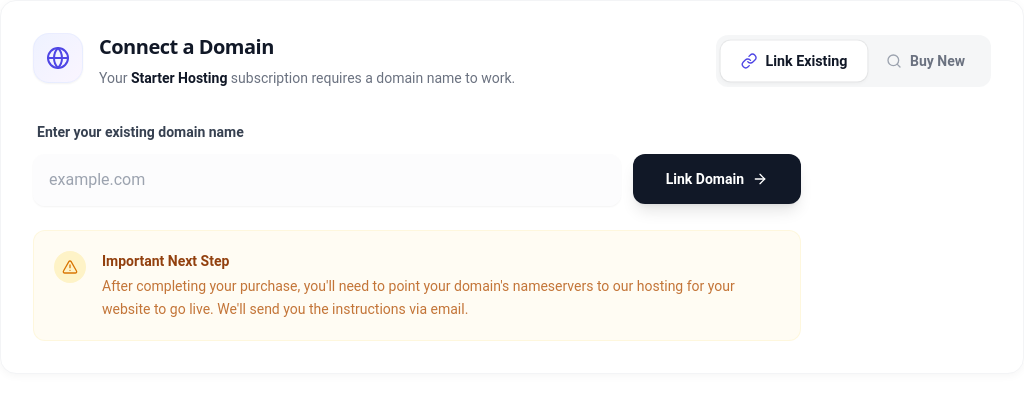
Scenario: <DomainSetup> › Link Existing tab › shows 'Required' when the input is empty and the user clicks Link Domain
Click the button "Link Domain" at x=717, y=179, box [633,154,801,204]
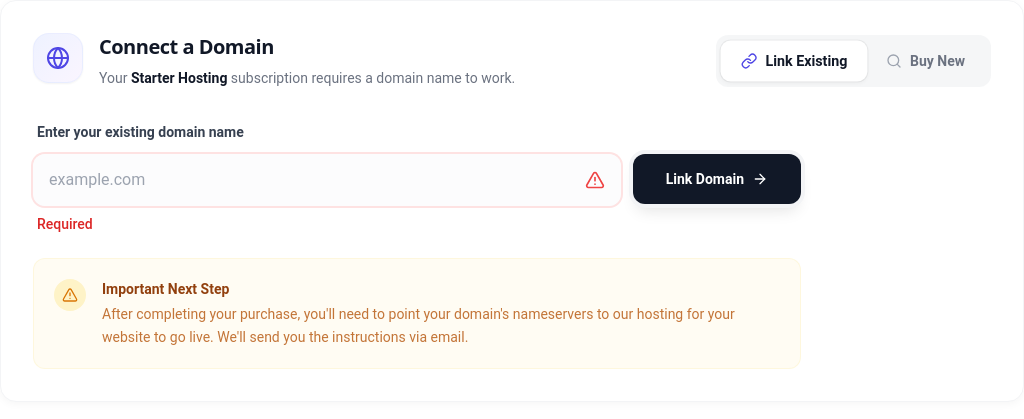
Expected: the text "Required" is shown, [37,216,93,232]
